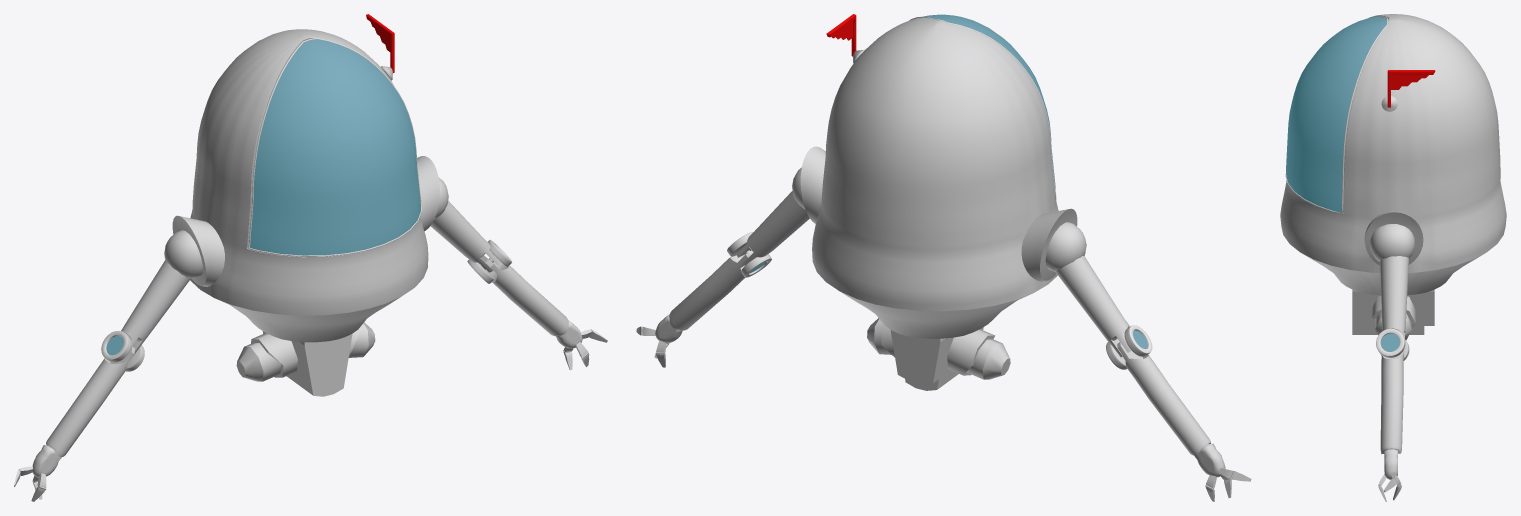
Rendered from Dash Bot 3.fbx.
3 renders of one model, left to right at view 1: azimuth 30°, elevation 25°; view 2: azimuth 150°, elevation 25°; view 3: azimuth 270°, elevation 25°, orthographic. The views are drawn at different scales.
Visible parts, largest first — view 1: Dash Bot Body, Face Door, Multibot_Center_Pelvis, Lower Arm, Upper Arm, Shoulder Pivot, Elbow Pivot, Palm; view 2: Dash Bot Body, Multibot_Center_Pelvis, Lower Arm, Upper Arm, Shoulder Pivot, Elbow Pivot, Face Door, Palm; view 3: Dash Bot Body, Face Door, Multibot_Center_Pelvis, Lower Arm, Upper Arm, Shoulder Pivot, Elbow Pivot, Flag001, Palm.
Part boxes in pixels (box(x1,y1,x2,y2)): Dash Bot Body: box(172, 29, 439, 345); Face Door: box(248, 38, 421, 256); Multibot_Center_Pelvis: box(236, 322, 375, 396); Lower Arm: box(46, 255, 568, 457); Upper Arm: box(121, 201, 499, 355); Shoulder Pivot: box(164, 177, 448, 278); Elbow Pivot: box(101, 239, 511, 371); Palm: box(32, 320, 582, 477); Dash Bot Body: box(800, 17, 1077, 342); Multibot_Center_Pelvis: box(867, 318, 1010, 390); Lower Arm: box(669, 250, 1210, 455); Upper Arm: box(737, 191, 1131, 357); Shoulder Pivot: box(792, 167, 1086, 271); Elbow Pivot: box(727, 232, 1152, 369); Face Door: box(909, 14, 1056, 199); Palm: box(655, 314, 1225, 477); Dash Bot Body: box(1280, 14, 1506, 295); Face Door: box(1285, 16, 1388, 214); Multibot_Center_Pelvis: box(1352, 291, 1434, 340); Lower Arm: box(1380, 350, 1403, 454); Upper Arm: box(1380, 256, 1408, 349); Shoulder Pivot: box(1370, 224, 1414, 261); Elbow Pivot: box(1376, 328, 1409, 360); Flag001: box(1387, 70, 1435, 107); Palm: box(1384, 449, 1397, 479).
Bounding box in the file's own units: 167 × 107 × 60.61.
